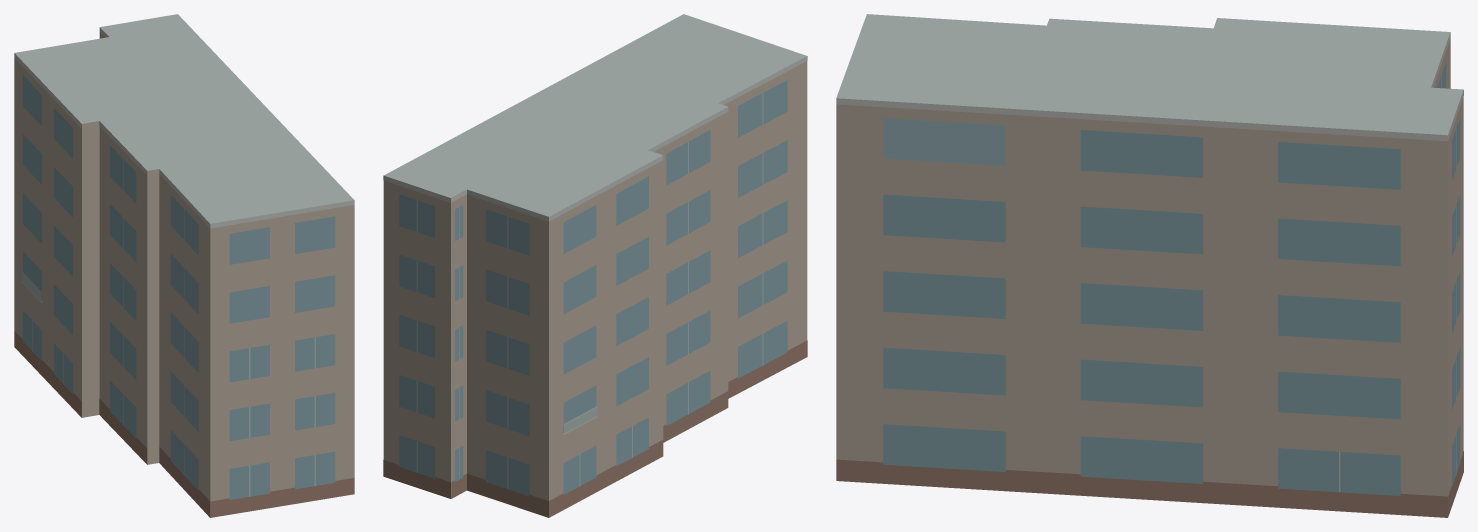
The model's file is survey-upis-32592648.glb.
3 renders of one model, left to right at view 1: azimuth 30°, elevation 25°; view 2: azimuth 150°, elevation 25°; view 3: azimuth 270°, elevation 25°, orthographic. The views are drawn at different scales.
Parts seen in each view (by area): view 1: survey-upis-32592648.tmp; view 2: survey-upis-32592648.tmp; view 3: survey-upis-32592648.tmp.
Boxes of the visible parts, x1,y1,x2,y2 form: survey-upis-32592648.tmp: [14, 14, 354, 517]; survey-upis-32592648.tmp: [383, 14, 807, 517]; survey-upis-32592648.tmp: [836, 14, 1463, 517].
Size of the model in its own units: 10.4 by 15.3 by 22.75.
